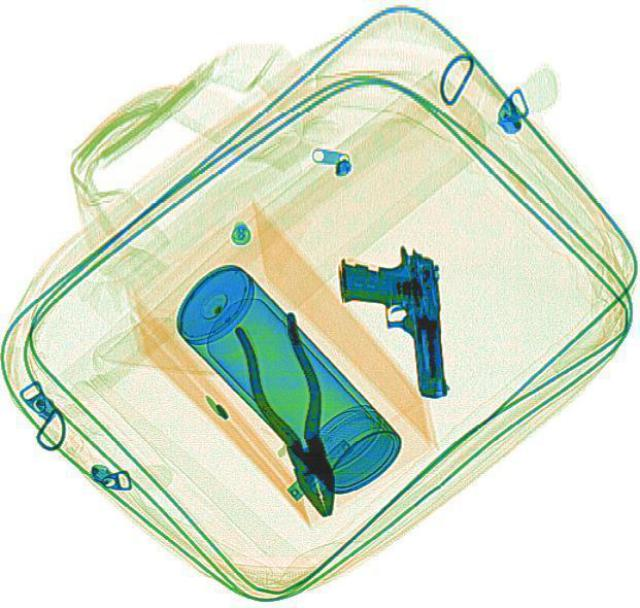Gun: (335, 242, 445, 400)
Pliers: (227, 307, 357, 520)
